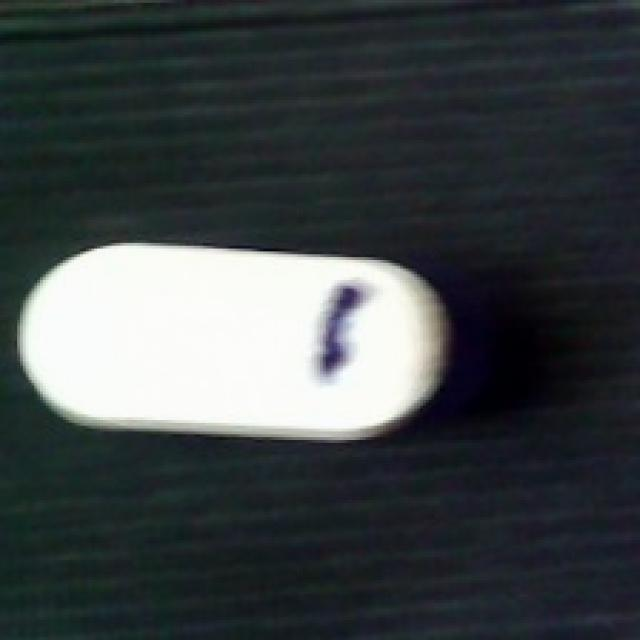defected: (11, 234, 460, 443)
